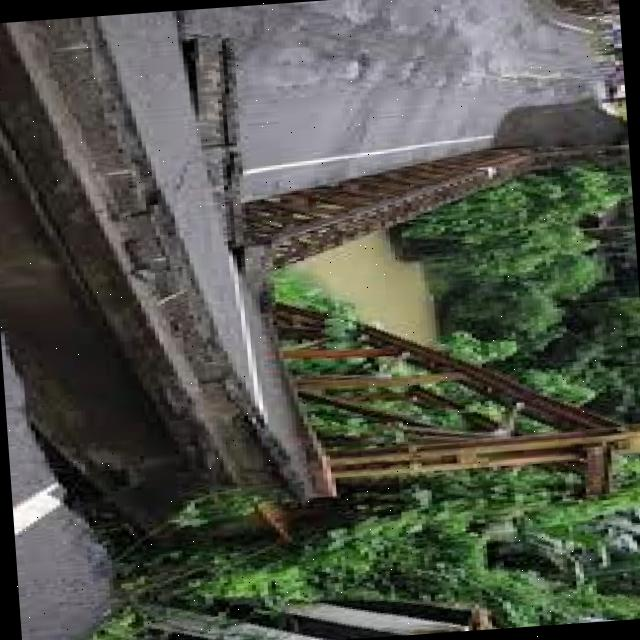bridge collapse: (0, 0, 588, 606)
